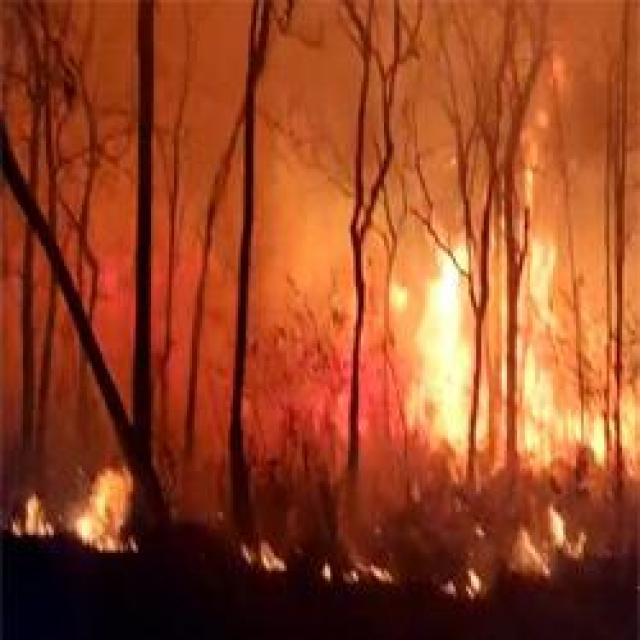Fire: (376, 228, 635, 458), (13, 462, 146, 558), (502, 514, 594, 582), (306, 546, 401, 600), (427, 562, 492, 604), (224, 539, 294, 570)
Smoke: (0, 4, 366, 401)
